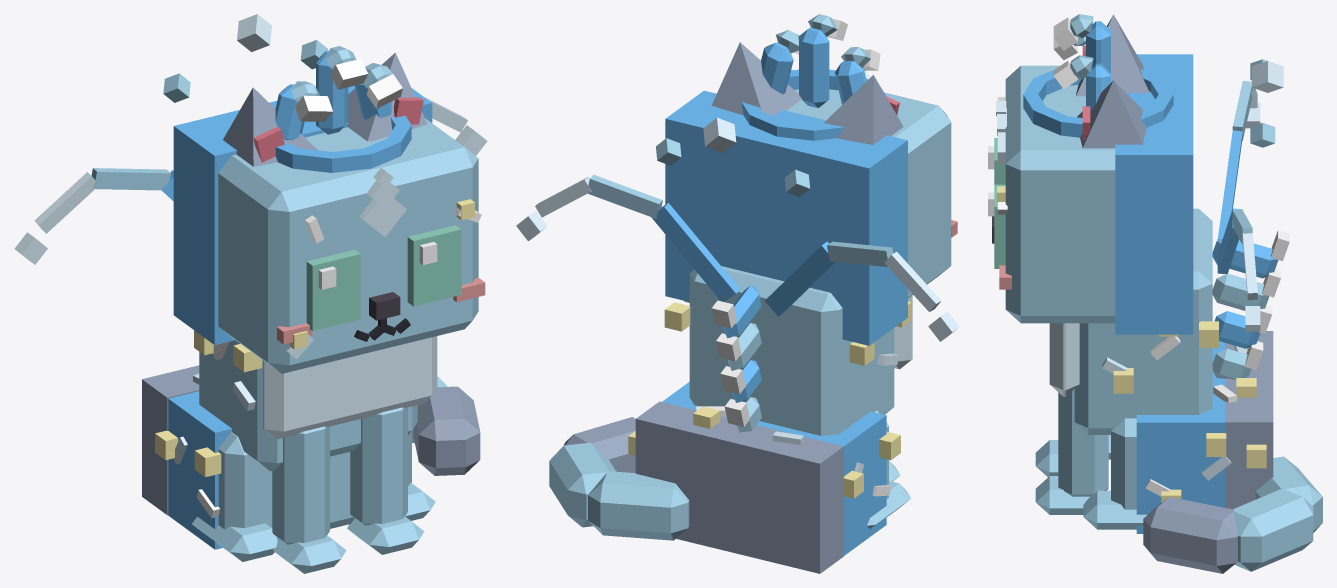
Rendered from CatCafe_Cat_Water_Sit.glb.
3 views of the same model, side by side, from view 1: azimuth 30°, elevation 25°; view 2: azimuth 150°, elevation 25°; view 3: azimuth 270°, elevation 25° (orthographic). The views are drawn at different scales.
Visible parts, largest first — view 1: CatCafe_Cat_Water_Sit_Head, CatCafe_Cat_Water_Sit_Body, CatCafe_Cat_Water_Sit_Prop, CatCafe_Cat_Water_Sit_LegF1, CatCafe_Cat_Water_Sit_LegF2, CatCafe_Cat_Water_Sit_Tail, CatCafe_Cat_Water_Sit_Eye1, CatCafe_Cat_Water_Sit_Eye2, CatCafe_Cat_Water_Sit_Prop2, CatCafe_Cat_Water_Sit_Bubbles_Glow, CatCafe_Cat_Water_Sit_EarR, CatCafe_Cat_Water_Sit_EarL (+1 smaller); view 2: CatCafe_Cat_Water_Sit_Body, CatCafe_Cat_Water_Sit_Head, CatCafe_Cat_Water_Sit_Prop2, CatCafe_Cat_Water_Sit_Tail, CatCafe_Cat_Water_Sit_Prop, CatCafe_Cat_Water_Sit_EarL, CatCafe_Cat_Water_Sit_EarR, CatCafe_Cat_Water_Sit_Bubbles_Glow, CatCafe_Cat_Water_Sit_Foam_Glow, CatCafe_Cat_Water_Sit_Crest_Glow; view 3: CatCafe_Cat_Water_Sit_Head, CatCafe_Cat_Water_Sit_Body, CatCafe_Cat_Water_Sit_Tail, CatCafe_Cat_Water_Sit_Prop2, CatCafe_Cat_Water_Sit_Prop, CatCafe_Cat_Water_Sit_LegF1, CatCafe_Cat_Water_Sit_EarL, CatCafe_Cat_Water_Sit_Bubbles_Glow, CatCafe_Cat_Water_Sit_EarR, CatCafe_Cat_Water_Sit_Foam_Glow, CatCafe_Cat_Water_Sit_Crest_Glow, CatCafe_Cat_Water_Sit_Eye1 (+2 smaller).
Boxes of the visible parts, <box> form: CatCafe_Cat_Water_Sit_Head: <box>173,86,485,373</box>; CatCafe_Cat_Water_Sit_Body: <box>142,330,437,561</box>; CatCafe_Cat_Water_Sit_Prop: <box>272,46,411,172</box>; CatCafe_Cat_Water_Sit_LegF1: <box>347,407,424,554</box>; CatCafe_Cat_Water_Sit_LegF2: <box>272,426,346,573</box>; CatCafe_Cat_Water_Sit_Tail: <box>412,376,480,475</box>; CatCafe_Cat_Water_Sit_Eye1: <box>407,225,461,306</box>; CatCafe_Cat_Water_Sit_Eye2: <box>306,249,360,330</box>; CatCafe_Cat_Water_Sit_Prop2: <box>34,97,467,233</box>; CatCafe_Cat_Water_Sit_Bubbles_Glow: <box>14,14,487,264</box>; CatCafe_Cat_Water_Sit_EarR: <box>223,87,317,166</box>; CatCafe_Cat_Water_Sit_EarL: <box>347,53,427,141</box>; CatCafe_Cat_Water_Sit_Body: <box>628,266,912,573</box>; CatCafe_Cat_Water_Sit_Head: <box>665,70,957,345</box>; CatCafe_Cat_Water_Sit_Prop2: <box>535,174,941,432</box>; CatCafe_Cat_Water_Sit_Tail: <box>549,417,689,540</box>; CatCafe_Cat_Water_Sit_Prop: <box>741,14,886,140</box>; CatCafe_Cat_Water_Sit_EarL: <box>711,42,801,115</box>; CatCafe_Cat_Water_Sit_EarR: <box>824,75,903,144</box>; CatCafe_Cat_Water_Sit_Bubbles_Glow: <box>516,117,959,341</box>; CatCafe_Cat_Water_Sit_Foam_Glow: <box>711,300,749,426</box>; CatCafe_Cat_Water_Sit_Crest_Glow: <box>786,18,880,70</box>; CatCafe_Cat_Water_Sit_Head: <box>992,54,1193,334</box>; CatCafe_Cat_Water_Sit_Body: <box>1049,208,1273,533</box>; CatCafe_Cat_Water_Sit_Tail: <box>1143,456,1322,573</box>; CatCafe_Cat_Water_Sit_Prop2: <box>1212,81,1278,379</box>; CatCafe_Cat_Water_Sit_Prop: <box>1023,14,1173,137</box>; CatCafe_Cat_Water_Sit_LegF1: <box>1035,389,1108,514</box>; CatCafe_Cat_Water_Sit_EarL: <box>1077,80,1146,148</box>; CatCafe_Cat_Water_Sit_Bubbles_Glow: <box>1245,59,1283,331</box>; CatCafe_Cat_Water_Sit_EarR: <box>1076,14,1149,96</box>; CatCafe_Cat_Water_Sit_Foam_Glow: <box>1244,230,1289,370</box>; CatCafe_Cat_Water_Sit_Crest_Glow: <box>1053,17,1077,89</box>; CatCafe_Cat_Water_Sit_Eye1: <box>988,184,1005,268</box>.
Size of the model in its own units: 2.41 by 2.48 by 1.58.
1 material, 1 textured.
